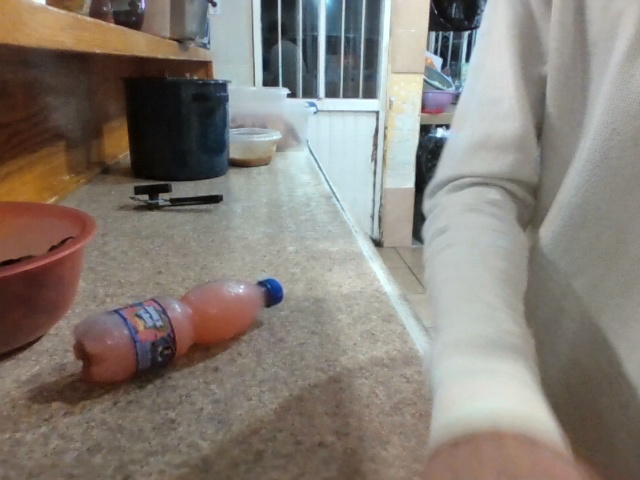botella: (49, 239, 319, 392)
